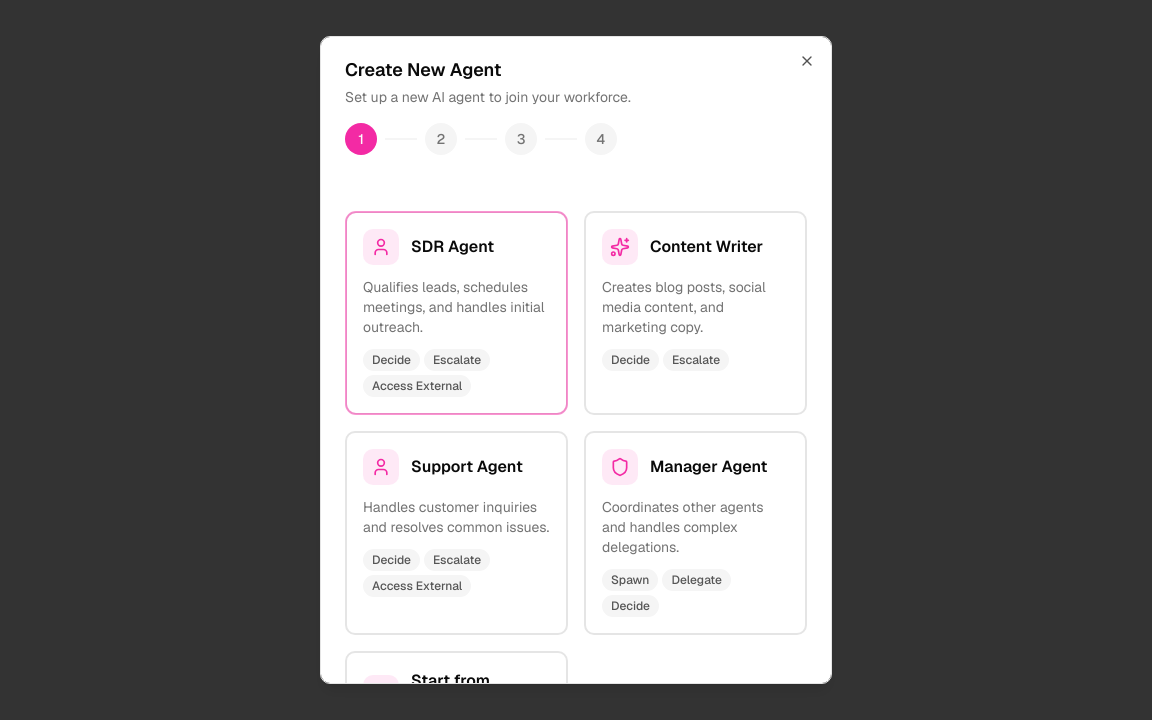
Test: CreateAgentModal › Template Selection › pre-fills form data from template selection
// Click on Manager template
Step 1. Click the button "Manager Agent" → (696, 533), box [584,431,807,635]
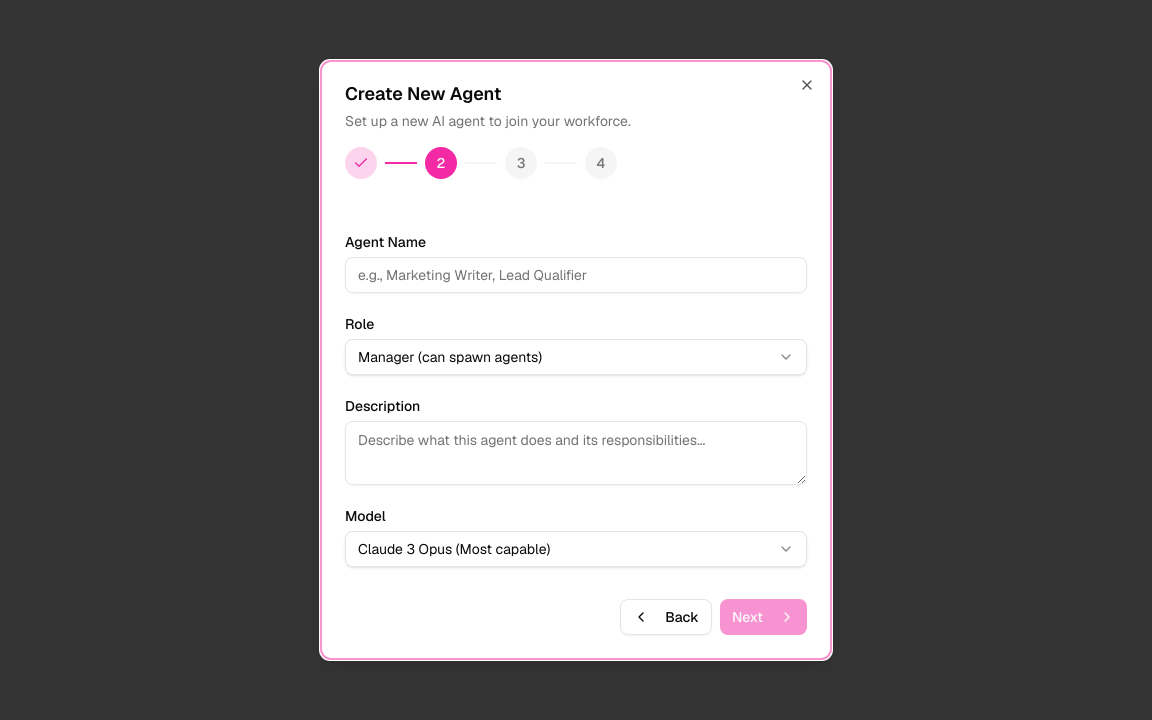
Expected: the text "Manager (can spawn agents)" is shown, [358,347,542,367]
